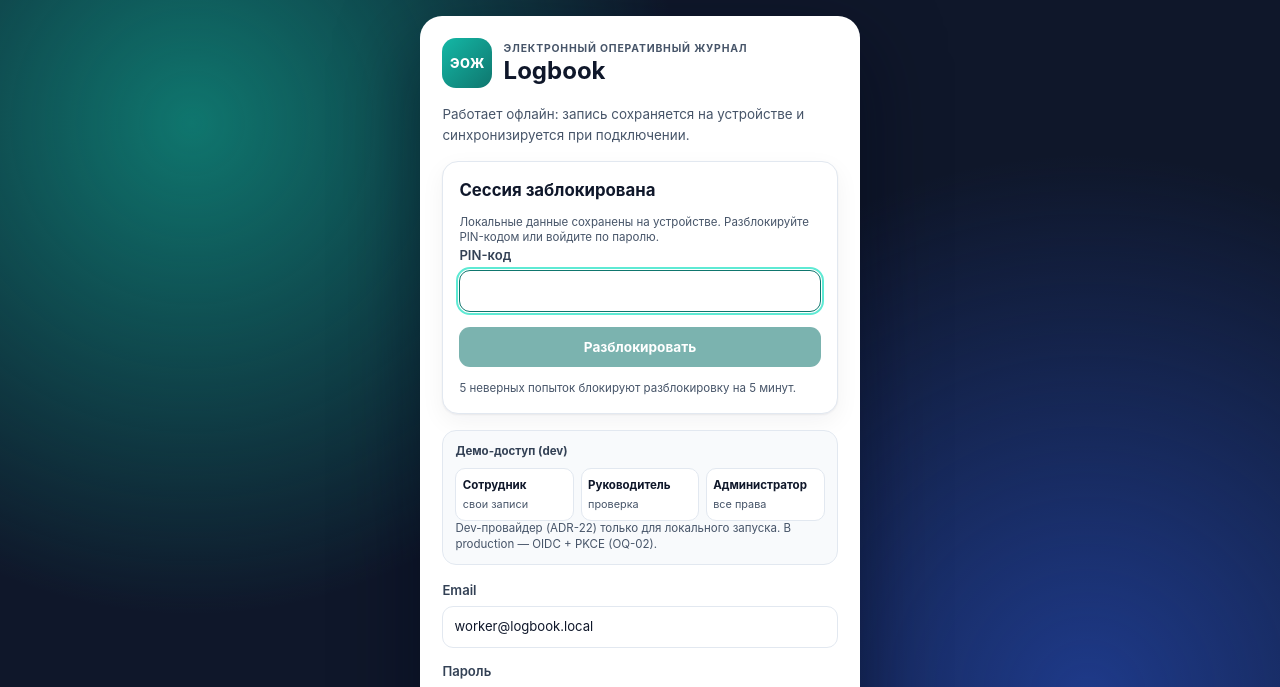
Test: LoginScreen local unlock (AUTH-03) › unlocks a locked session with a PIN
Expected: the heading "Сессия заблокирована" is shown, 459,180 -> 656,200
Step 1. Type "2468" into the password field labelled "PIN-код" → (640, 291), box 459,270 -> 821,312
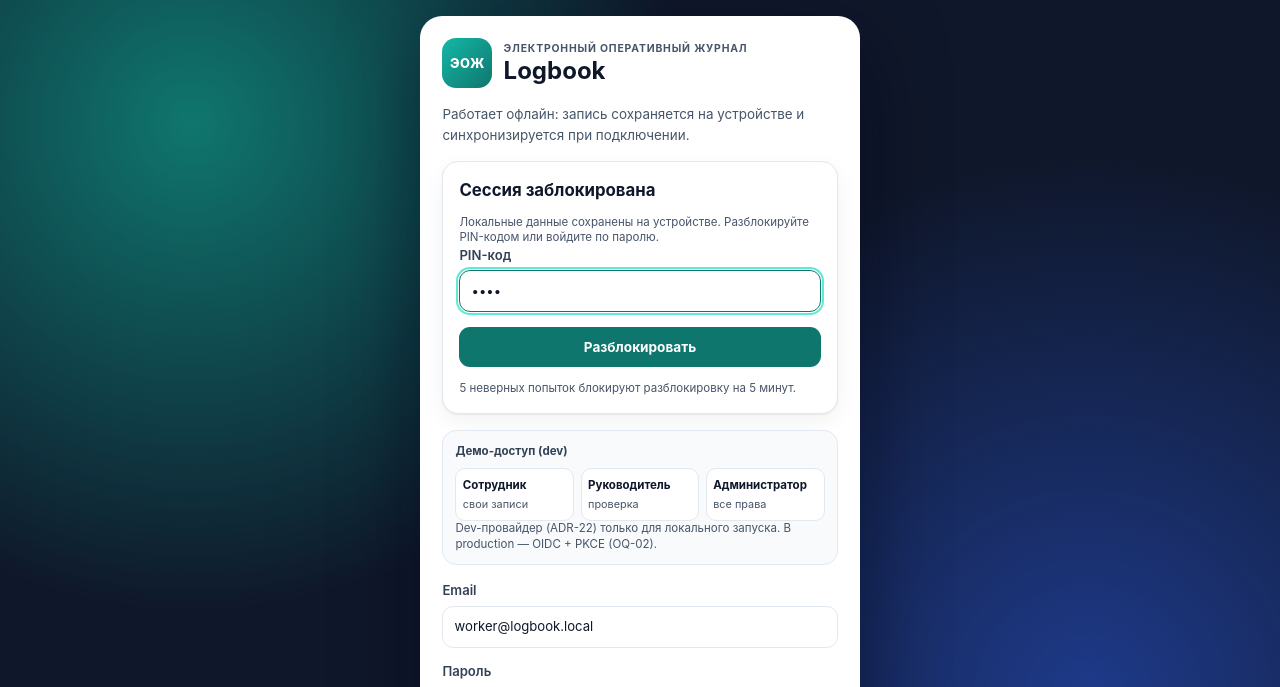
Step 2. Click the button "Разблокировать" → (640, 347), box 459,327 -> 821,367
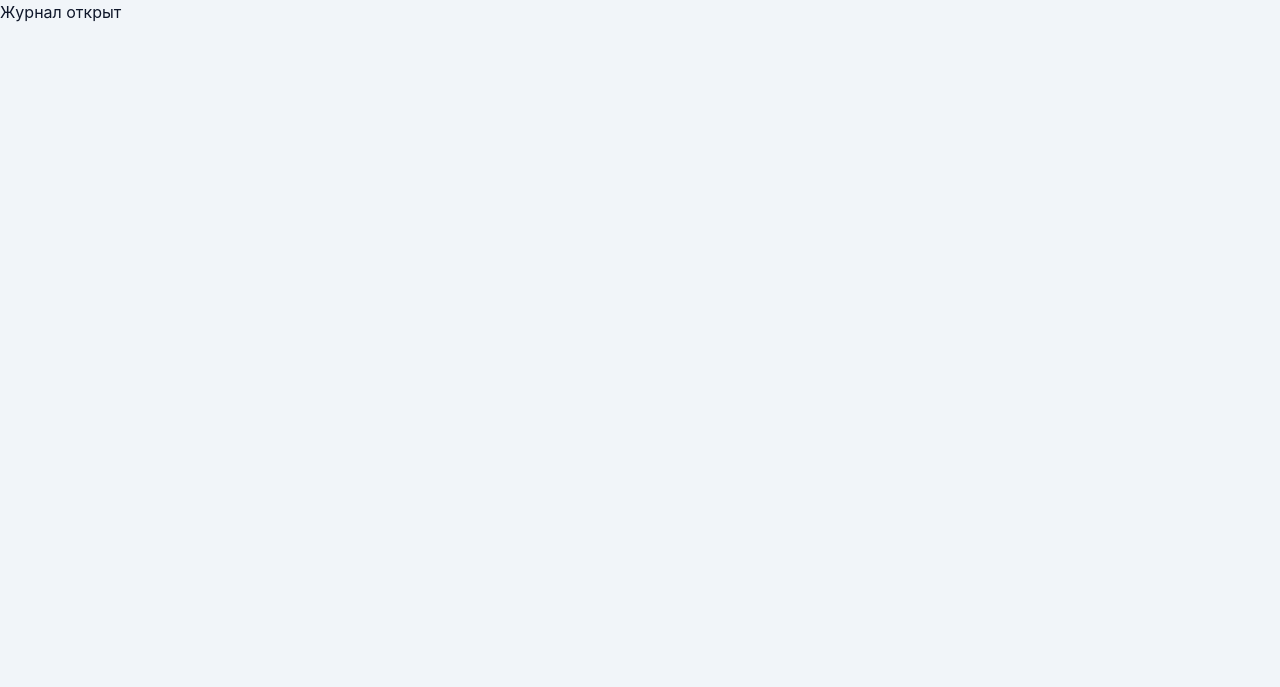
Now the text "Журнал открыт" is shown, box 0,2 -> 121,22
